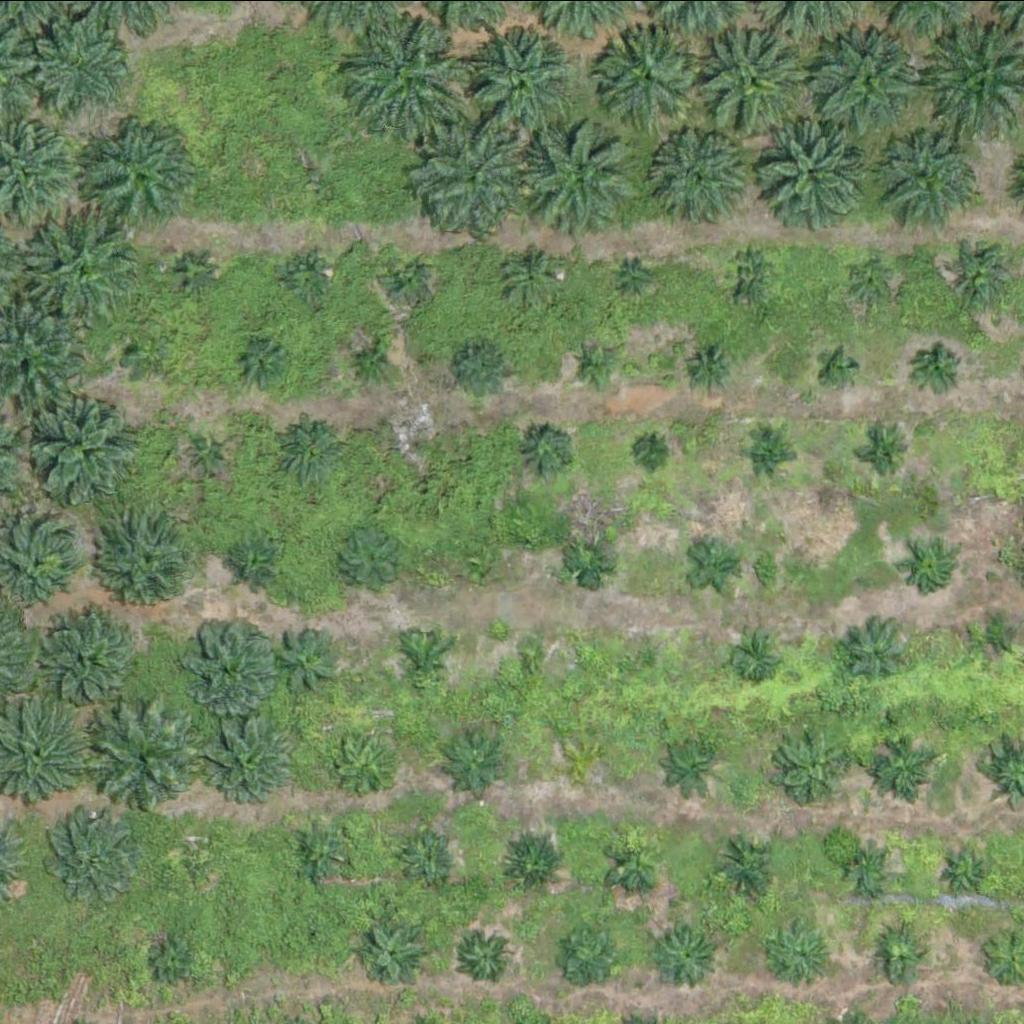Kelapa_Sawit: (345, 9, 471, 134), (27, 8, 141, 121), (86, 705, 199, 818), (32, 389, 145, 502), (84, 117, 197, 230), (815, 24, 929, 136), (698, 21, 812, 133), (32, 211, 145, 323), (418, 121, 531, 233), (524, 112, 637, 224), (42, 808, 143, 908), (42, 607, 143, 707), (100, 517, 201, 617), (468, 31, 569, 131), (596, 25, 697, 125), (177, 612, 278, 712), (762, 120, 862, 220), (888, 132, 988, 232), (658, 128, 746, 215), (210, 712, 298, 799), (552, 921, 628, 996), (333, 523, 408, 598), (773, 924, 836, 987), (846, 618, 909, 681), (445, 730, 508, 793), (500, 831, 563, 894), (290, 821, 353, 884), (450, 337, 513, 400), (657, 926, 720, 988), (953, 239, 1016, 301), (717, 836, 780, 898), (874, 736, 937, 798), (784, 733, 846, 796), (662, 728, 725, 790), (359, 925, 422, 987), (281, 420, 344, 482), (272, 629, 335, 691), (335, 731, 398, 793), (859, 428, 910, 478), (913, 344, 964, 394), (507, 251, 558, 301), (395, 635, 446, 685), (520, 428, 571, 478), (342, 335, 393, 385), (972, 610, 1023, 660), (879, 930, 929, 980), (725, 246, 775, 296), (742, 426, 792, 476), (687, 538, 737, 588), (609, 838, 659, 888), (730, 631, 780, 681), (905, 543, 955, 593), (461, 930, 511, 980), (402, 836, 452, 886), (233, 337, 283, 387), (567, 536, 617, 586), (380, 251, 430, 301), (170, 248, 220, 298), (281, 252, 331, 302), (185, 432, 235, 482), (116, 329, 166, 379), (570, 340, 620, 390), (844, 257, 894, 307), (684, 341, 734, 391), (940, 850, 991, 899), (463, 540, 501, 578), (819, 349, 857, 387), (239, 542, 276, 580), (177, 834, 214, 872), (849, 852, 887, 889), (157, 939, 195, 976), (396, 430, 421, 455), (625, 264, 650, 289), (639, 441, 664, 466), (632, 642, 657, 667), (516, 642, 541, 667), (570, 747, 595, 772), (307, 920, 332, 945)
